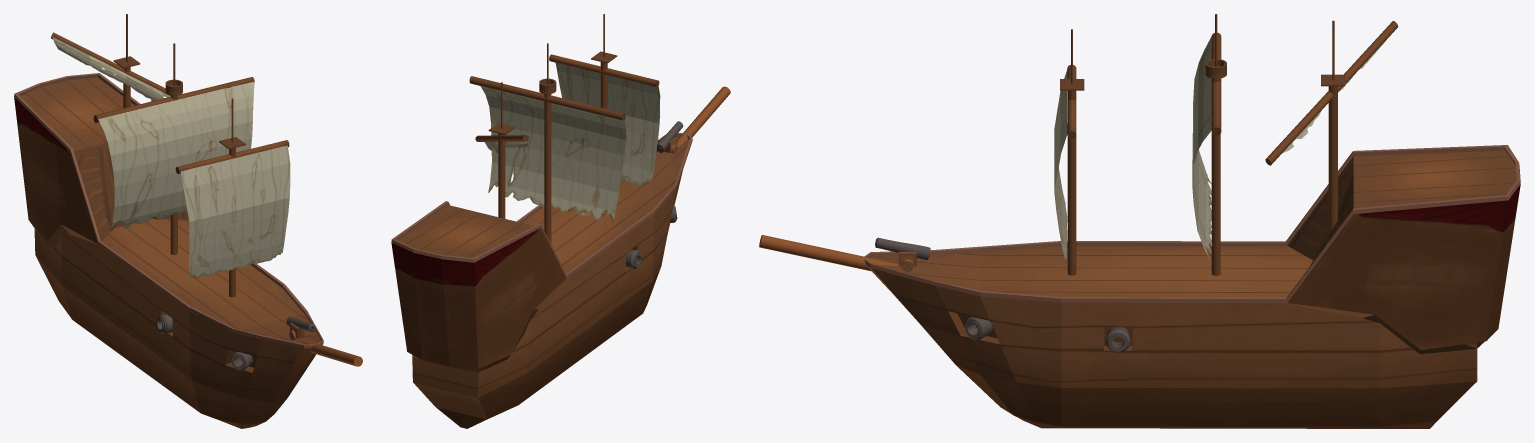
Rendered from Player Boat.fbx.
3 views of the same model, side by side, from view 1: azimuth 30°, elevation 25°; view 2: azimuth 150°, elevation 25°; view 3: azimuth 270°, elevation 25° (orthographic). The views are drawn at different scales.
Visible parts, largest first — view 1: Boat, Canons; view 2: Boat, Canons; view 3: Boat, Canons.
Part boxes in pixels (box(x1,y1,x2,y2)): Boat: box(14, 14, 362, 428); Canons: box(156, 314, 315, 370); Boat: box(391, 14, 730, 428); Canons: box(625, 121, 683, 268); Boat: box(759, 14, 1520, 428); Canons: box(875, 237, 1130, 352).
Bounding box in the file's own units: 268 × 541 × 906.
